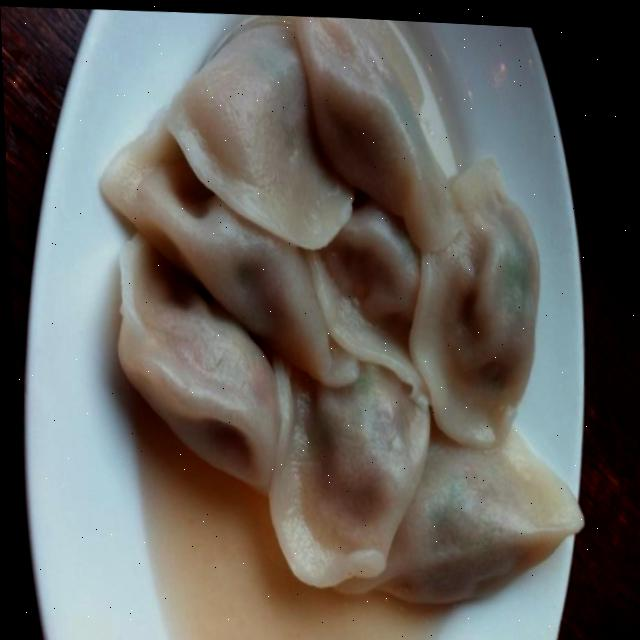带馅早点: (0, 0, 603, 640)
